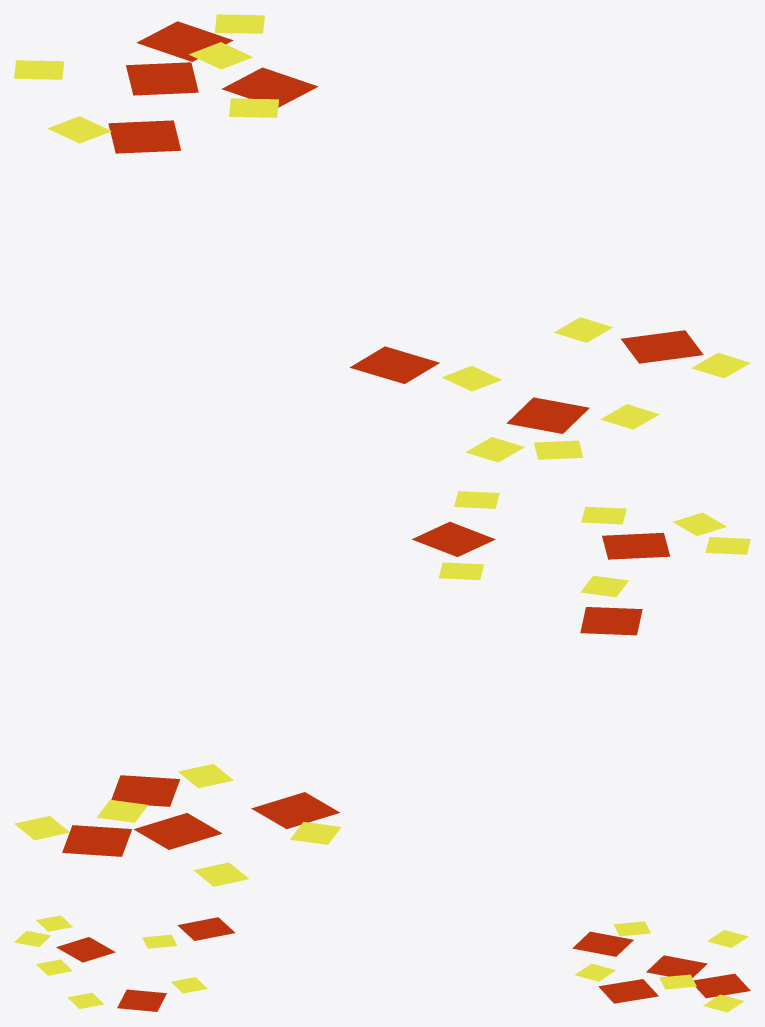
The model's file is garden_threeway_flower.fbx.
3 views of the same model, one above another, from view 1: azimuth 30°, elevation 25°; view 2: azimuth 150°, elevation 25°; view 3: azimuth 270°, elevation 25° (orthographic). The views are drawn at different scales.
Visible parts, largest first — view 1: polySurface877; view 2: polySurface877; view 3: polySurface877.
Boxes of the visible parts, bbox=[...] form: polySurface877: bbox=[14, 14, 750, 462]; polySurface877: bbox=[14, 491, 750, 886]; polySurface877: bbox=[14, 915, 750, 1012].
Size of the model in its own units: 29.3 by 0.7455 by 93.27.
1 material, 1 textured.
